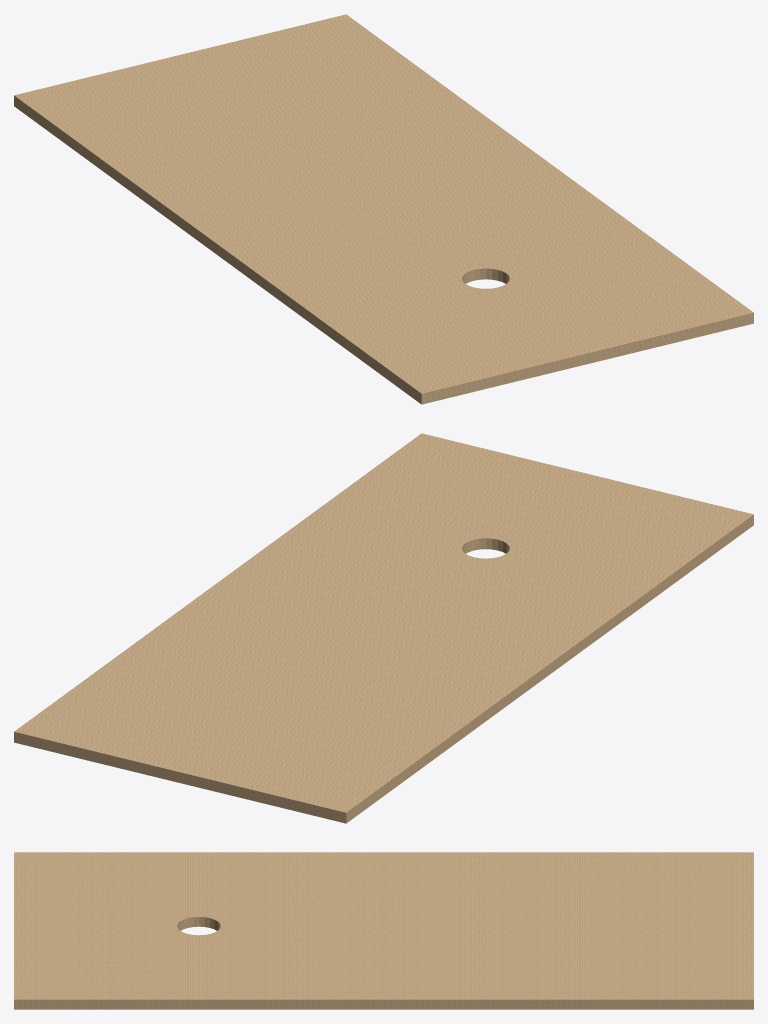
The model's file is Chamber_Ceiling.fbx.
The picture shows the model from 3 angles, top to bottom: view 1: azimuth 30°, elevation 25°; view 2: azimuth 150°, elevation 25°; view 3: azimuth 270°, elevation 25°; orthographic projection. The views are drawn at different scales.
Parts seen in each view (by area): view 1: Ceiling_5:Ceiling_6; view 2: Ceiling_5:Ceiling_6; view 3: Ceiling_5:Ceiling_6.
Part boxes in pixels (x1,y1,x2,y2): Ceiling_5:Ceiling_6: [14, 14, 753, 404]; Ceiling_5:Ceiling_6: [14, 433, 753, 823]; Ceiling_5:Ceiling_6: [14, 852, 753, 1009].
Size of the model in its own units: 3200 by 100 by 6800.
